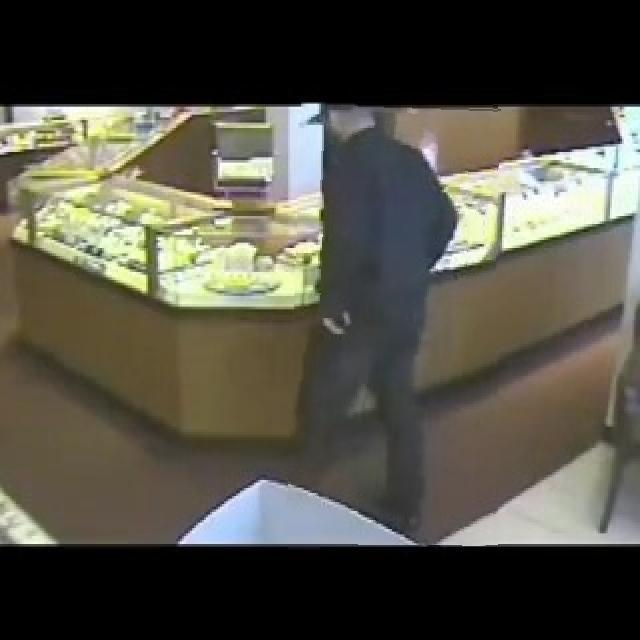Normal: (290, 103, 498, 545)
